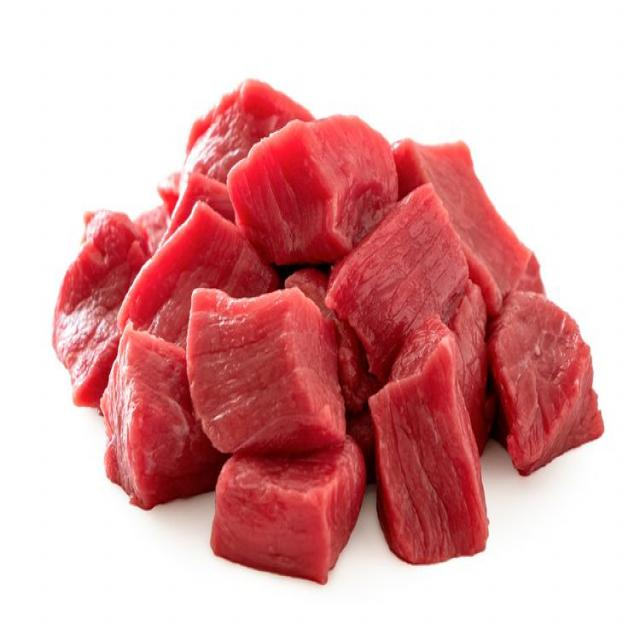beef: (384, 76, 566, 371), (346, 325, 506, 580), (176, 267, 352, 458), (32, 190, 168, 398), (85, 301, 208, 528), (226, 112, 400, 270), (478, 295, 618, 488)
